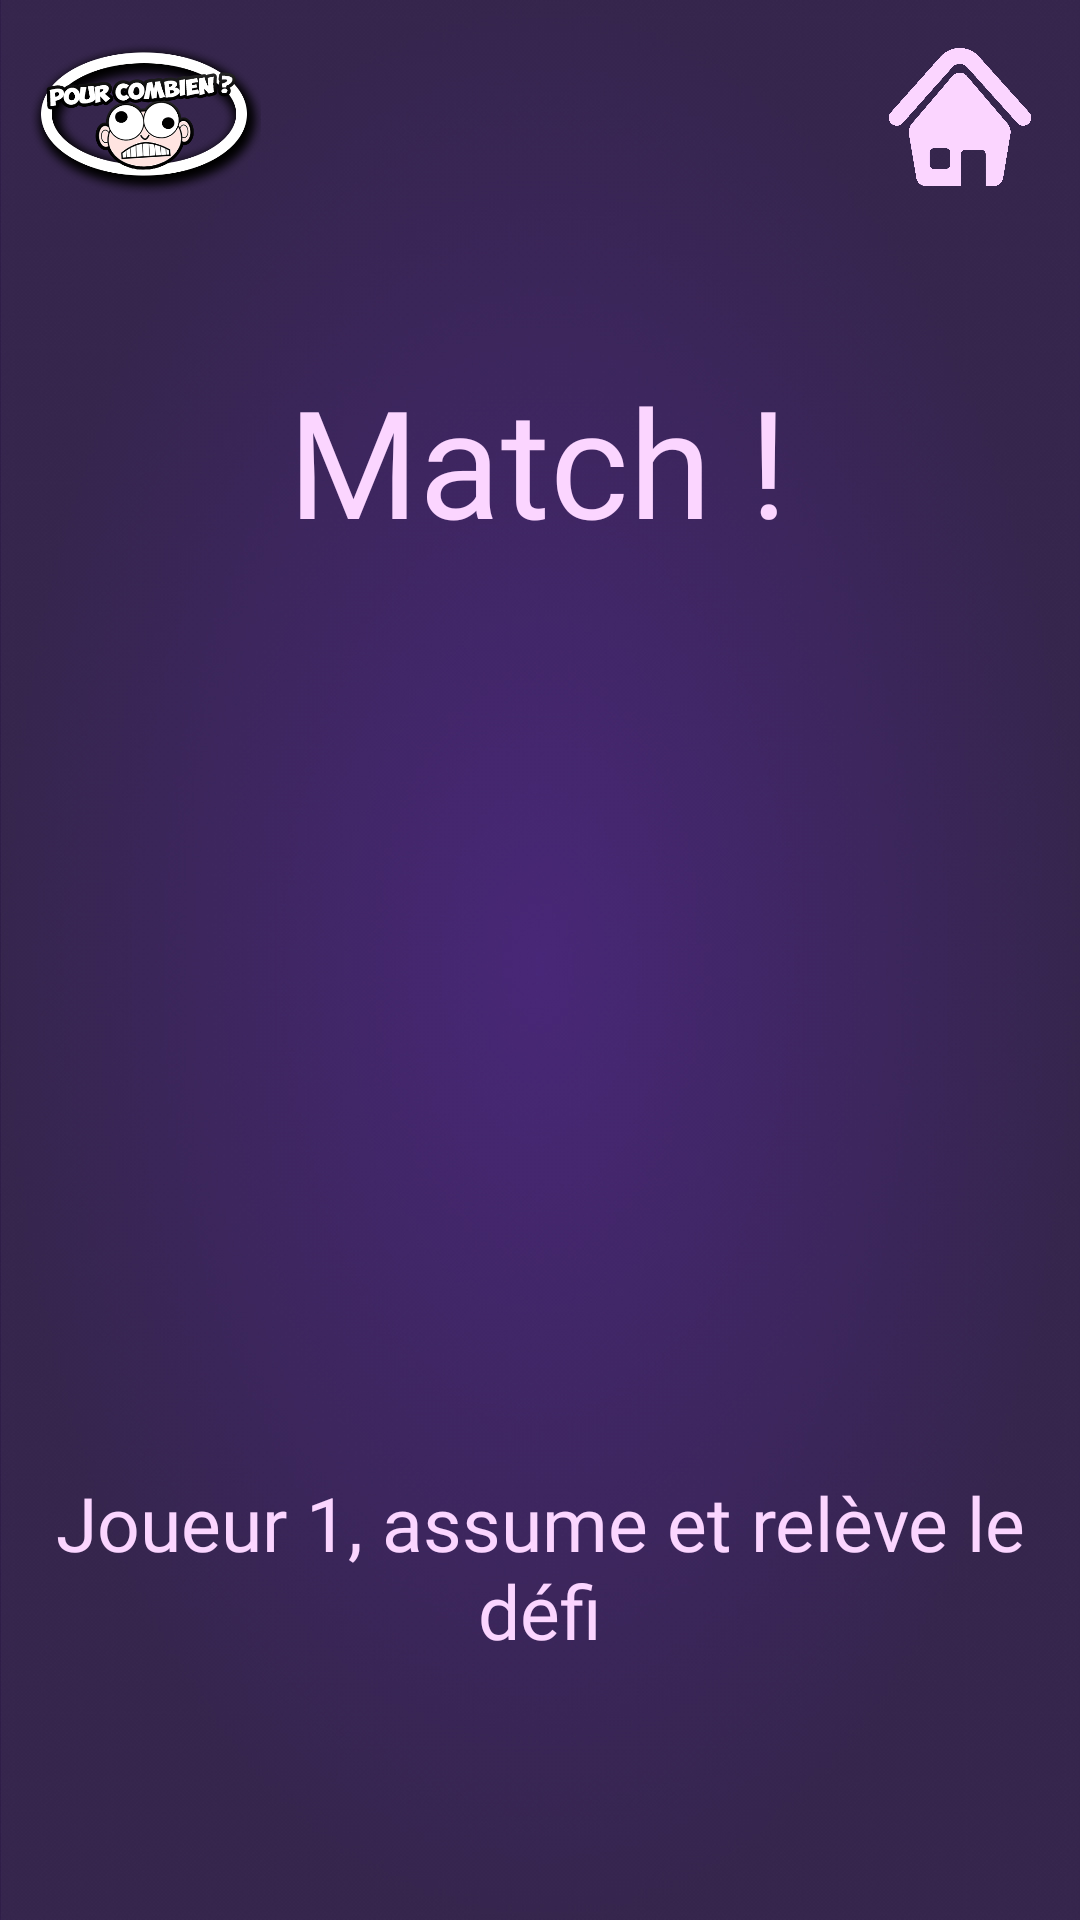

Named icons in this screenshot (1080w x 1920h) and their centers, (x=x, y=y):
Bouton pour retourner à la page d'accueil: (x=960, y=117)
